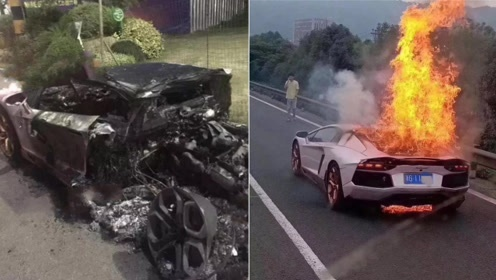fire: (374, 0, 468, 152)
